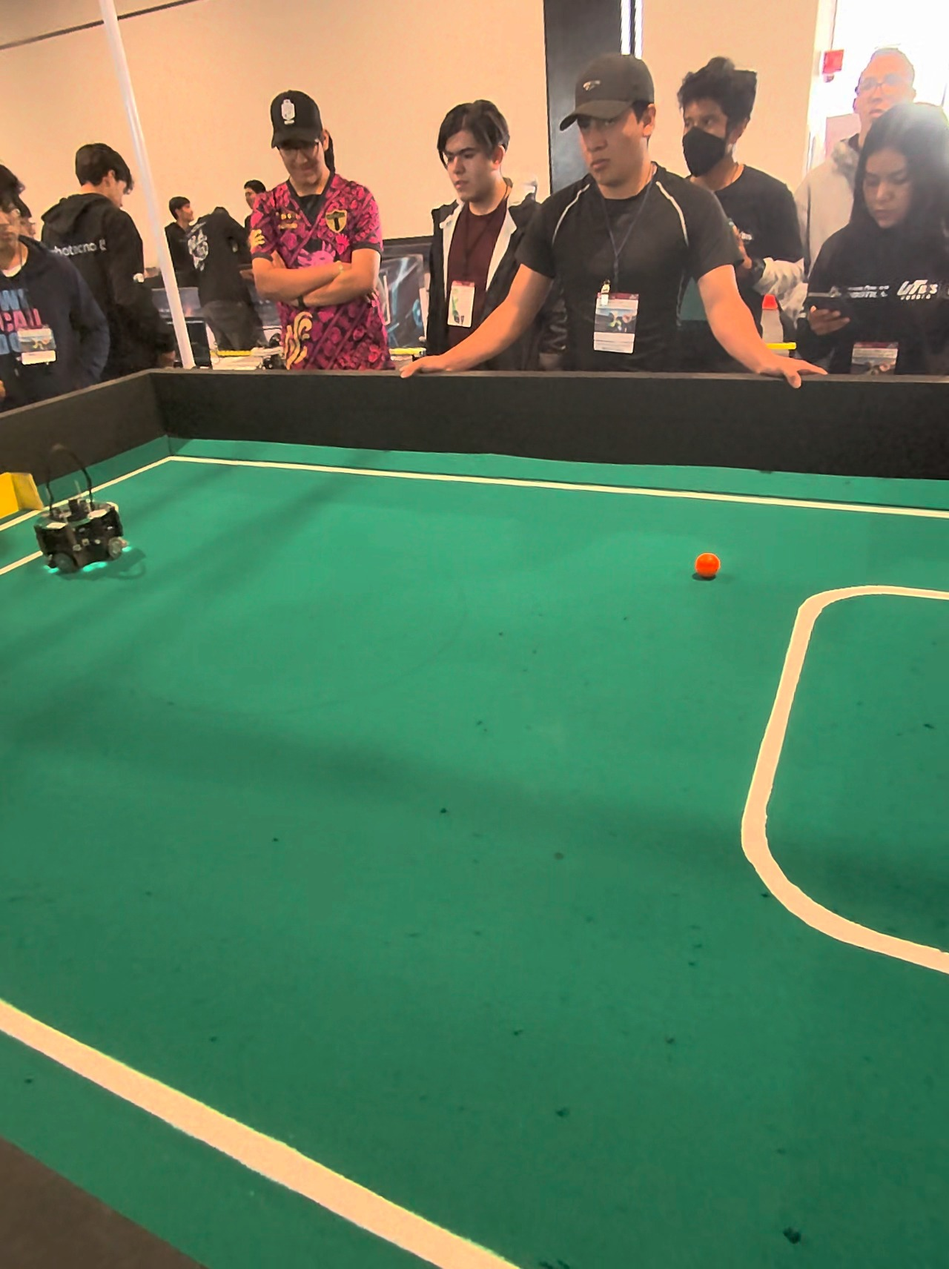Robot: (31, 444, 139, 593)
pelota: (681, 543, 731, 592)
